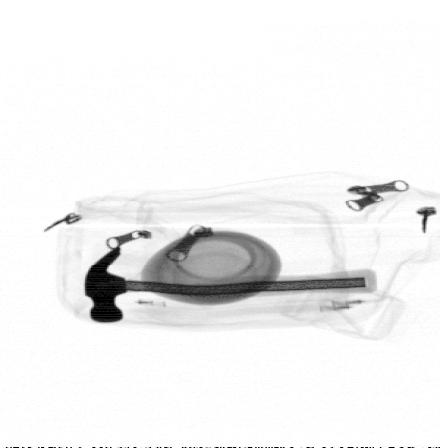Hammer: (83, 245, 377, 324)
